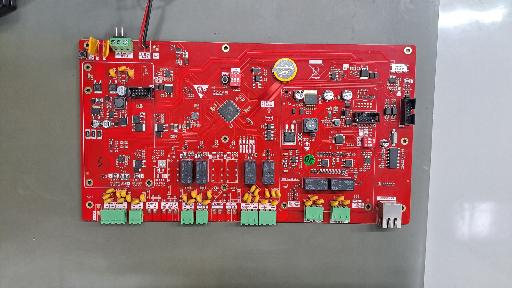var: (87, 38, 100, 58), (103, 39, 112, 61), (108, 67, 117, 79), (127, 67, 135, 79), (105, 187, 116, 194), (263, 187, 270, 198), (335, 195, 346, 202), (253, 194, 261, 203), (260, 198, 269, 206), (102, 193, 112, 200), (270, 199, 280, 206), (329, 200, 339, 207), (131, 198, 140, 205), (139, 193, 146, 202), (202, 199, 211, 206), (242, 192, 249, 201), (118, 65, 127, 72), (103, 198, 113, 204), (125, 194, 131, 204), (303, 200, 313, 206), (308, 194, 318, 200), (120, 189, 126, 198), (182, 193, 188, 202), (196, 194, 202, 203), (206, 190, 212, 199), (342, 199, 351, 205), (116, 198, 124, 204), (187, 198, 195, 204), (246, 196, 252, 204), (316, 199, 324, 205), (116, 190, 121, 199), (191, 190, 196, 199), (276, 189, 281, 198), (254, 188, 259, 196), (271, 188, 275, 198), (250, 185, 255, 192)
